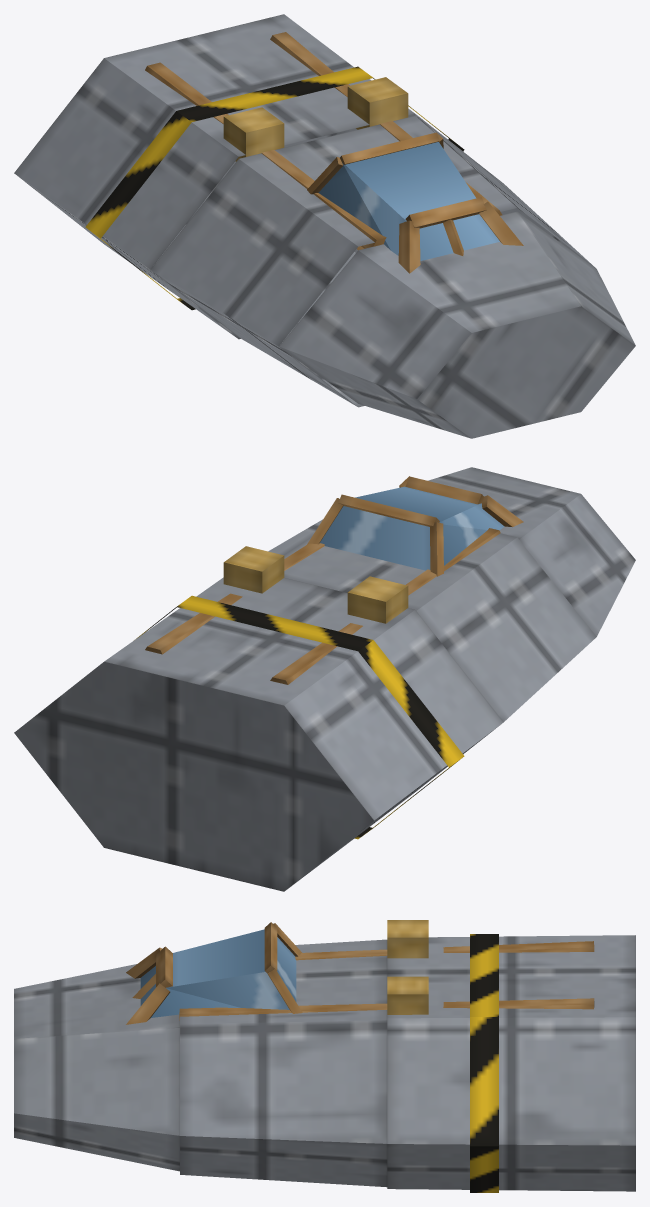
The model's file is ship_tanker_cockpit.obj.
The picture shows the model from 3 angles, top to bottom: view 1: azimuth 30°, elevation 25°; view 2: azimuth 150°, elevation 25°; view 3: azimuth 270°, elevation 25°; orthographic projection. The views are drawn at different scales.
Parts seen in each view (by area): view 1: hull, canopy, hazard, frame, valves, pipes; view 2: hull, canopy, hazard, valves, frame, pipes; view 3: hull, canopy, hazard, pipes, frame, valves.
Boxes of the visible parts, <box> form: hull: <box>14,14,635,438</box>; canopy: <box>318,142,499,260</box>; hazard: <box>85,66,464,310</box>; frame: <box>307,132,523,273</box>; valves: <box>223,77,408,161</box>; pipes: <box>145,32,502,248</box>; hull: <box>14,467,635,891</box>; canopy: <box>320,486,504,570</box>; hazard: <box>136,595,464,839</box>; valves: <box>223,546,408,623</box>; frame: <box>307,476,523,576</box>; pipes: <box>145,528,500,684</box>; hull: <box>14,935,635,1191</box>; canopy: <box>140,929,296,1017</box>; hazard: <box>470,934,498,1192</box>; pipes: <box>179,941,594,1020</box>; frame: <box>126,922,302,1024</box>; valves: <box>387,920,428,1014</box>.
Bounding box in the file's own units: 1.9 × 1.11 × 3.
Materials: 5 (5 with a texture image).
